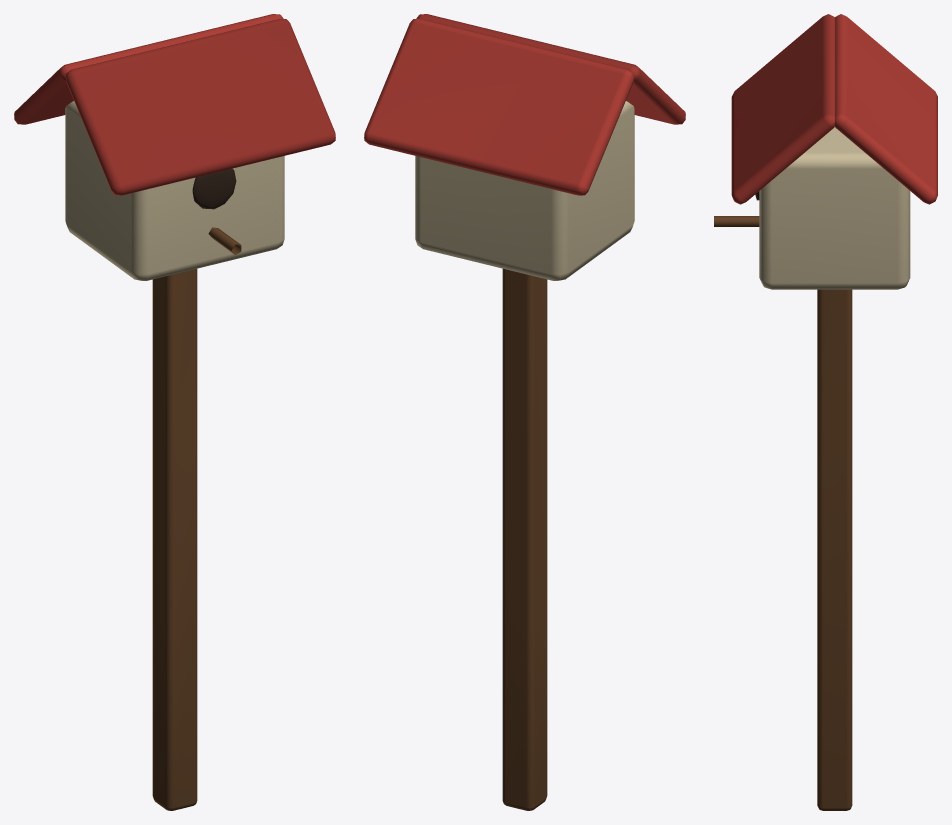
The model's file is birdhouse.glb.
3 views of the same model, side by side, from view 1: azimuth 30°, elevation 25°; view 2: azimuth 150°, elevation 25°; view 3: azimuth 270°, elevation 25° (orthographic). The views are drawn at different scales.
Visible parts, largest first — view 1: birdhouse_main; view 2: birdhouse_main; view 3: birdhouse_main.
Boxes of the visible parts, <box> form: birdhouse_main: <box>14,14,335,810</box>; birdhouse_main: <box>364,14,685,810</box>; birdhouse_main: <box>714,14,937,810</box>.
Size of the model in its own units: 0.5 by 1.63 by 0.4448.
